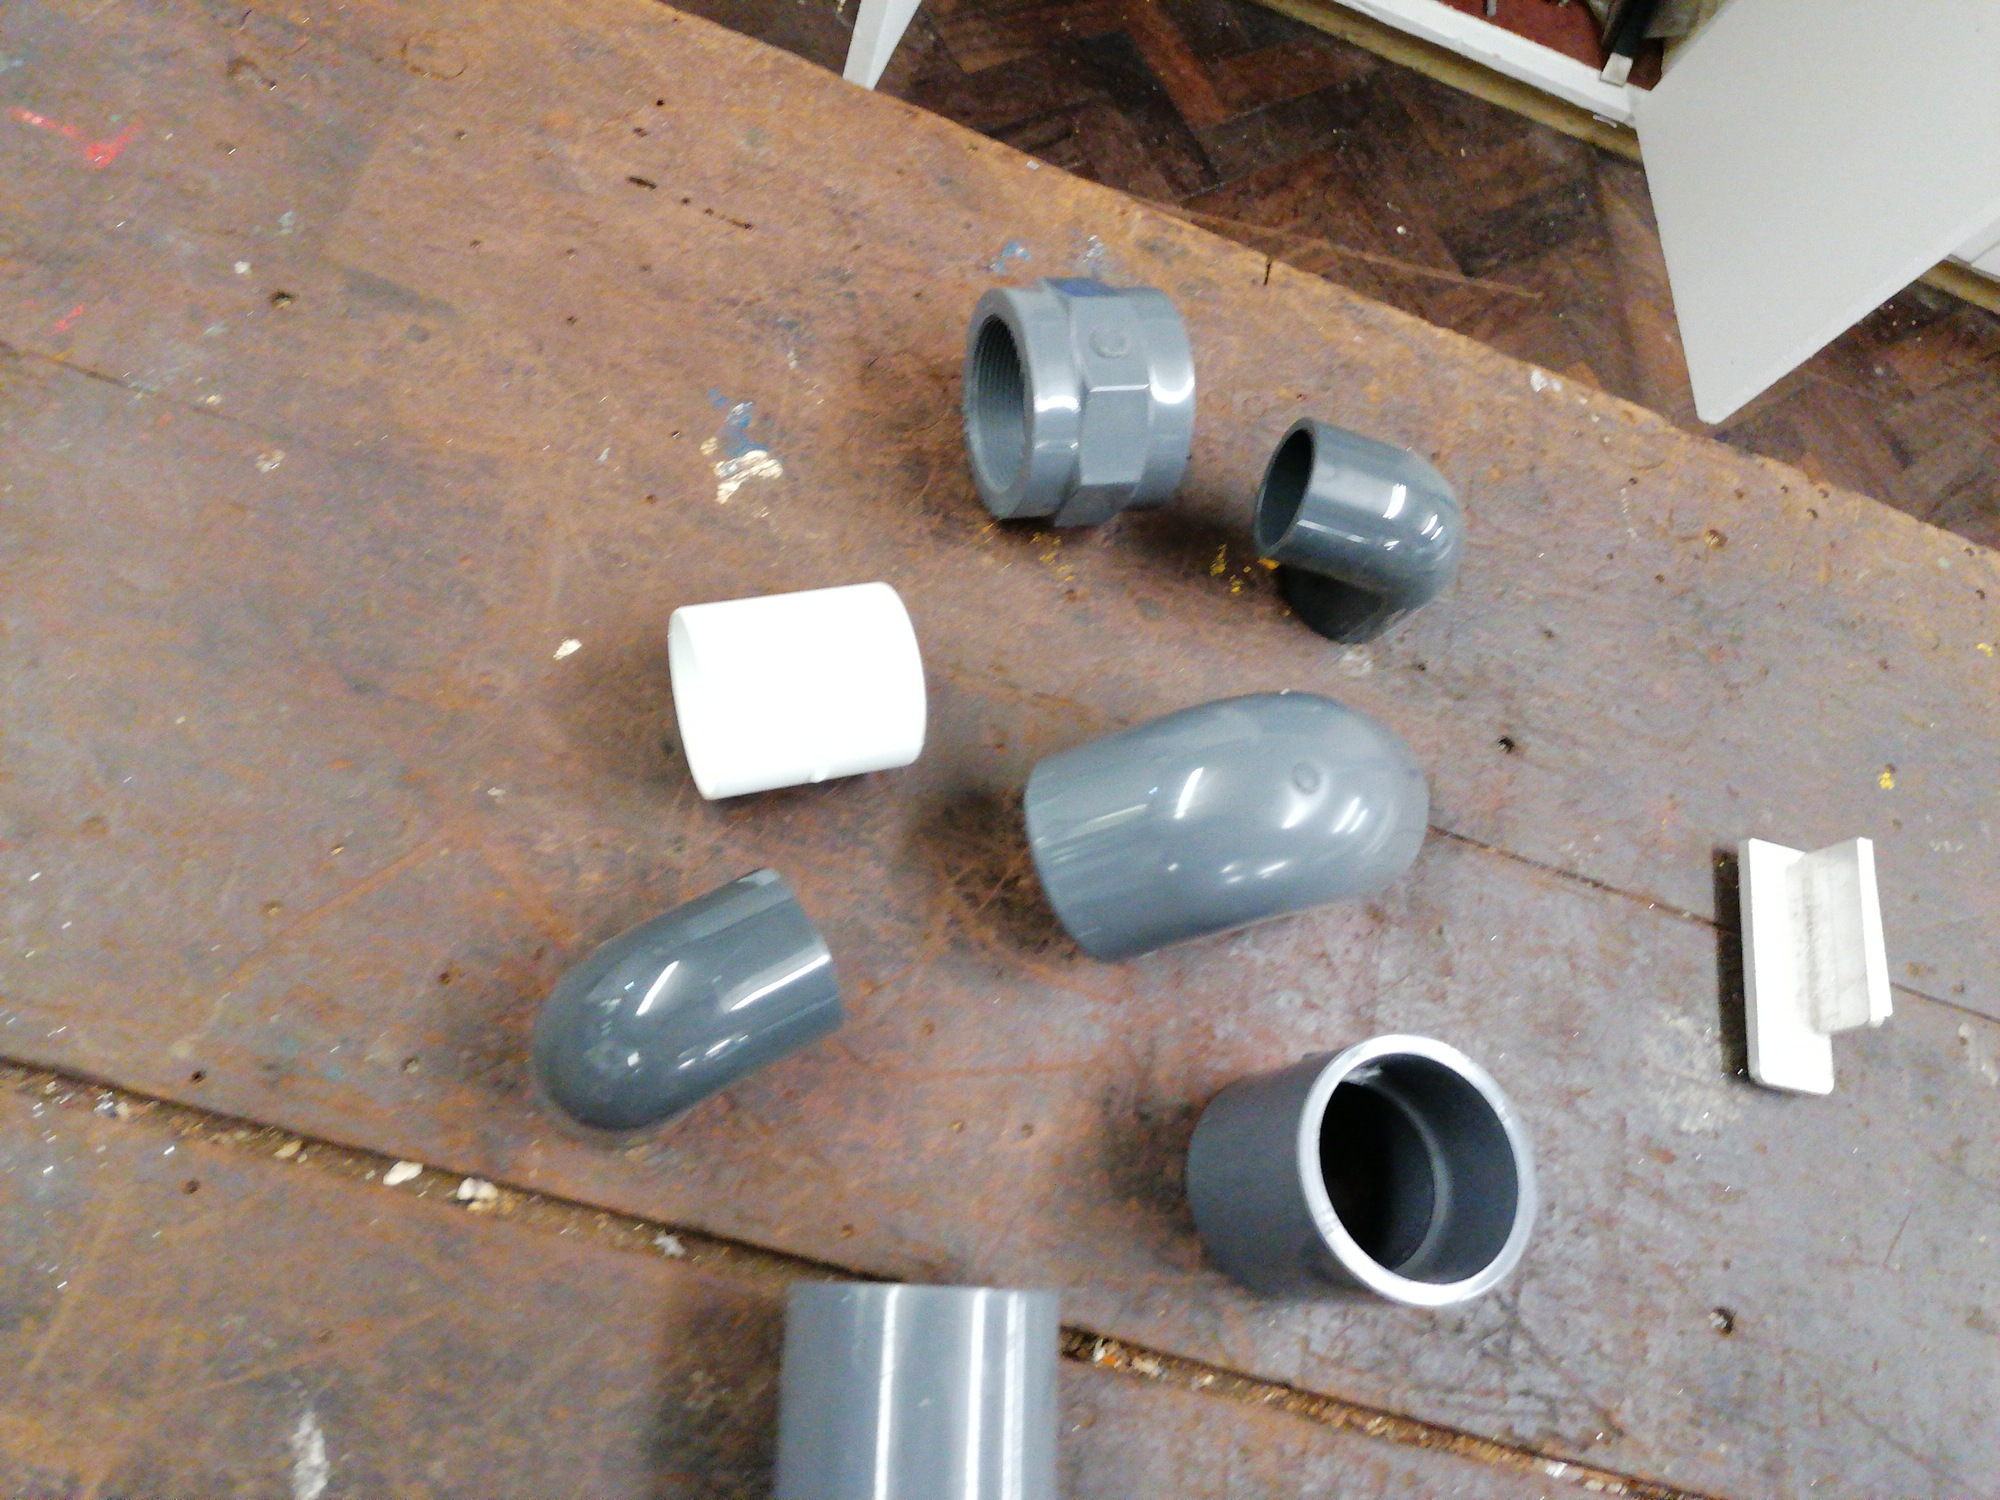nut: (957, 273, 1197, 533)
pipe: (1019, 687, 1431, 964), (1186, 1030, 1542, 1309), (523, 863, 850, 1131), (776, 1279, 1065, 1500), (668, 577, 928, 800), (1250, 418, 1468, 648)
